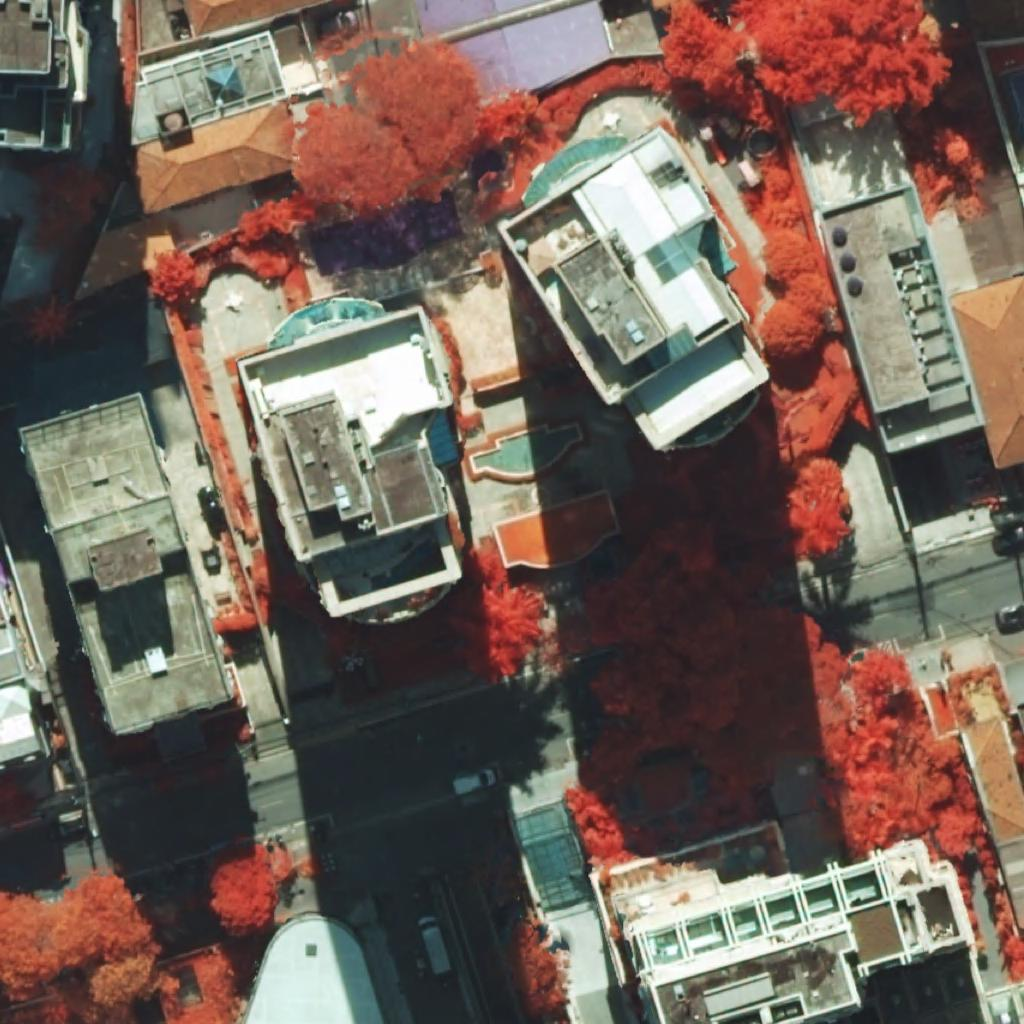pool: (473, 427, 580, 473), (372, 538, 447, 591)
